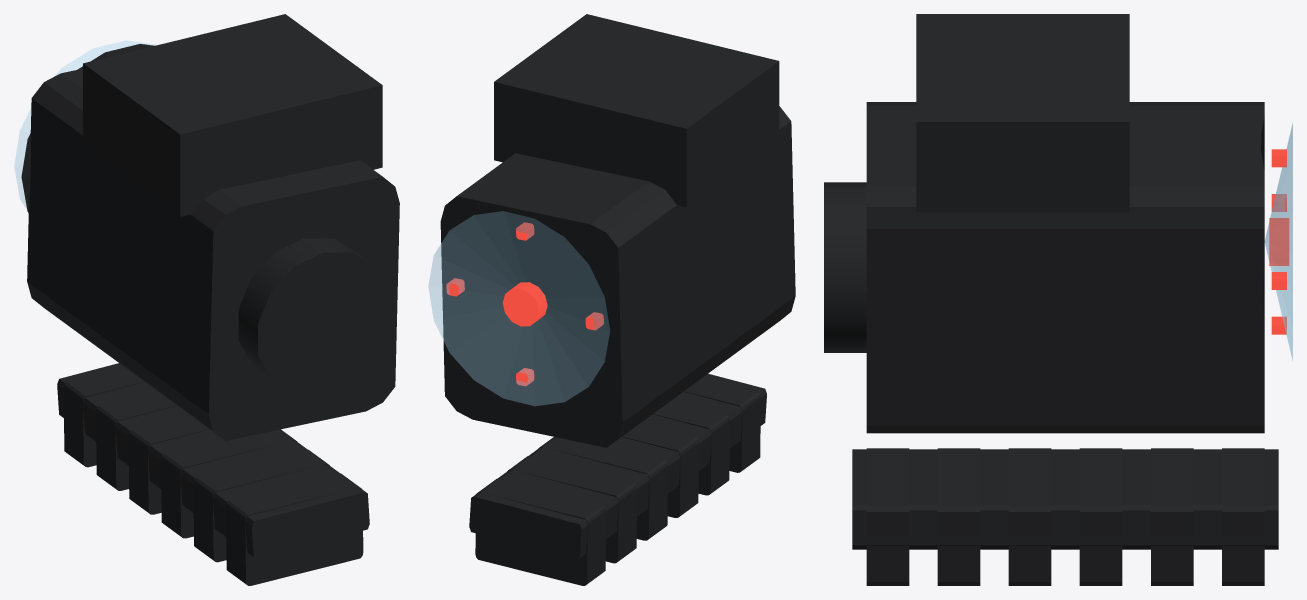
Rendered from attachment_launcher_holo.glb.
3 views of the same model, side by side, from view 1: azimuth 30°, elevation 25°; view 2: azimuth 150°, elevation 25°; view 3: azimuth 270°, elevation 25° (orthographic). The views are drawn at different scales.
Visible parts, largest first — view 1: attachment_launcher_holo__launcher_holo__launcher_holo__body, attachment_launcher_holo__launcher_holo__launcher_holo__lens; view 2: attachment_launcher_holo__launcher_holo__launcher_holo__body, attachment_launcher_holo__launcher_holo__launcher_holo__lens, attachment_launcher_holo__launcher_holo__launcher_holo__reti; view 3: attachment_launcher_holo__launcher_holo__launcher_holo__body, attachment_launcher_holo__launcher_holo__launcher_holo__lens, attachment_launcher_holo__launcher_holo__launcher_holo__reti.
Part boxes in pixels (box(x1,y1,x2,y2)): attachment_launcher_holo__launcher_holo__launcher_holo__body: box(21, 14, 399, 585); attachment_launcher_holo__launcher_holo__launcher_holo__lens: box(14, 40, 156, 209); attachment_launcher_holo__launcher_holo__launcher_holo__body: box(440, 14, 795, 585); attachment_launcher_holo__launcher_holo__launcher_holo__lens: box(428, 211, 609, 405); attachment_launcher_holo__launcher_holo__launcher_holo__reti: box(446, 222, 603, 386); attachment_launcher_holo__launcher_holo__launcher_holo__body: box(824, 14, 1278, 585); attachment_launcher_holo__launcher_holo__launcher_holo__lens: box(1264, 123, 1292, 360); attachment_launcher_holo__launcher_holo__launcher_holo__reti: box(1269, 149, 1289, 334).
Bounding box in the file's own units: 0.036 × 0.0759 × 0.066.
